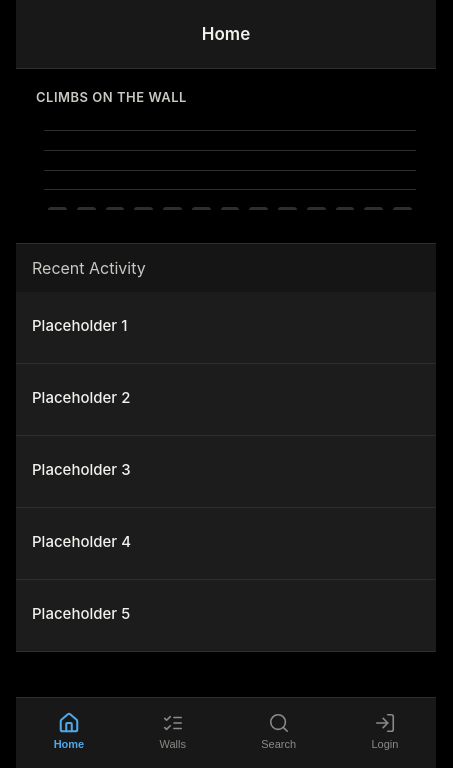
App() — Profile tab / auth state › shows the login/signup form when logged out (tab bar reads Login, not Profile)
This screenshot has width=453, height=768.
Click the button "Login".
click(385, 731)  # box left=363, top=708, right=406, bottom=754
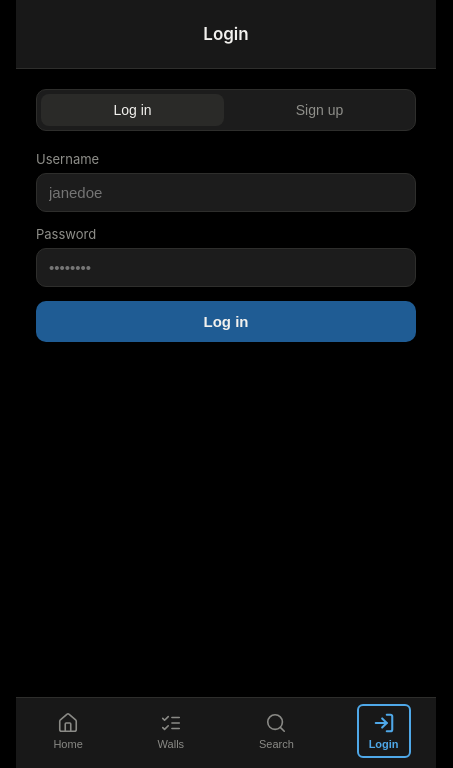
Check: the 1st button "Log in" is shown, box left=41, top=94, right=224, bottom=126
